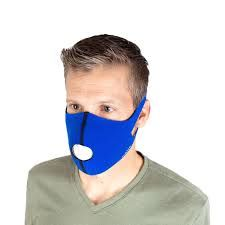with-mask: (57, 45, 154, 181)
